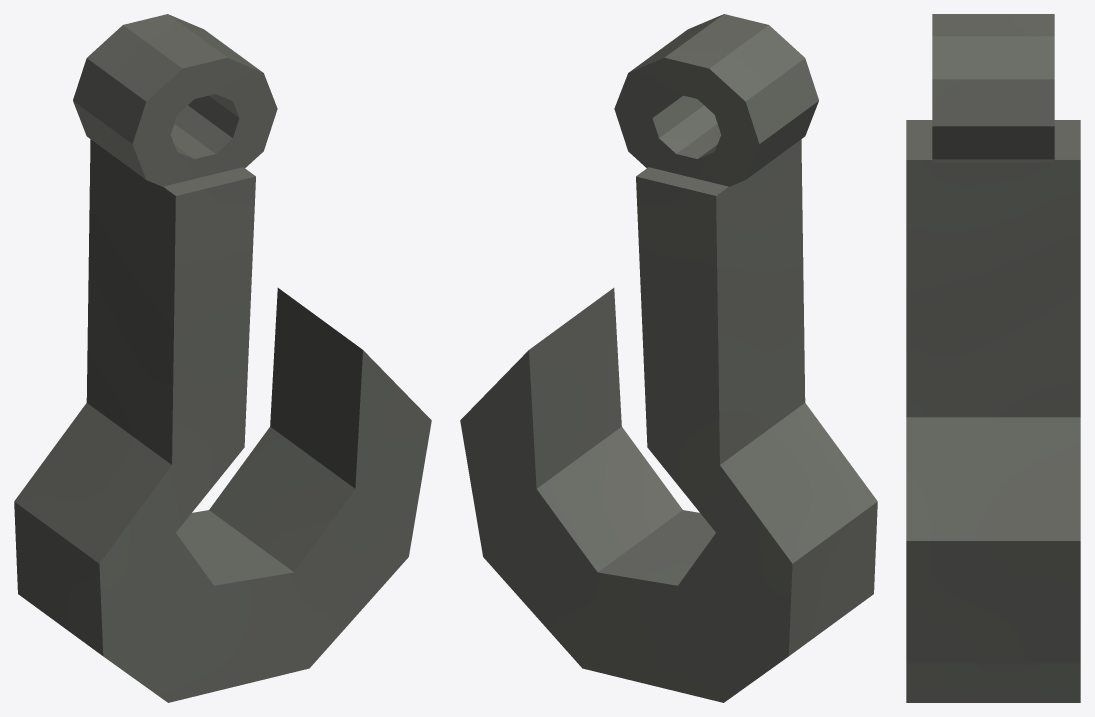
File: WarrensC_WVC016_HoistHook_Mars_SM.fbx
The picture shows the model from 3 angles, left to right: view 1: azimuth 30°, elevation 25°; view 2: azimuth 150°, elevation 25°; view 3: azimuth 270°, elevation 25°; orthographic projection. The views are drawn at different scales.
Parts seen in each view (by area): view 1: WarrensC_WVC016_HoistHook_Mars_SM.001; view 2: WarrensC_WVC016_HoistHook_Mars_SM.001; view 3: WarrensC_WVC016_HoistHook_Mars_SM.001.
Part boxes in pixels (x1,y1,x2,y2): WarrensC_WVC016_HoistHook_Mars_SM.001: [14, 14, 431, 702]; WarrensC_WVC016_HoistHook_Mars_SM.001: [460, 14, 877, 702]; WarrensC_WVC016_HoistHook_Mars_SM.001: [906, 14, 1080, 702].
Size of the model in its own units: 45 by 20 by 80.
